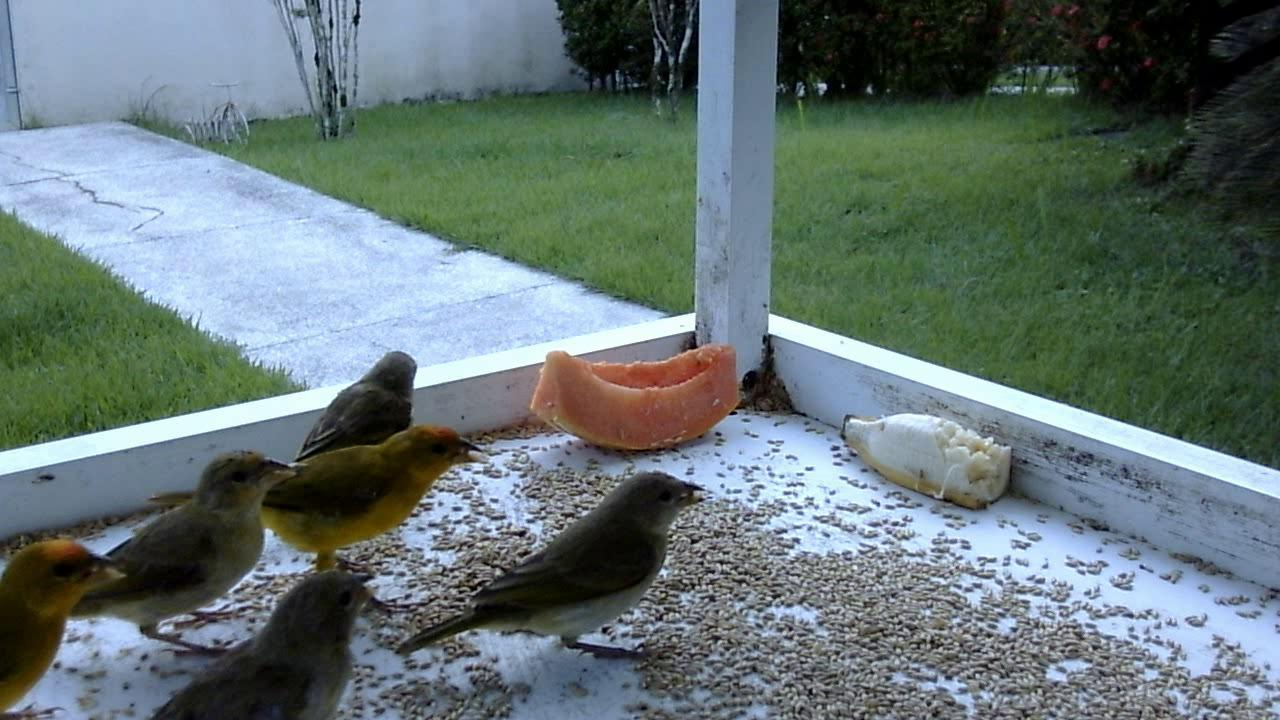canario_do_amazonas: (387, 466, 715, 680), (59, 444, 301, 674), (122, 562, 403, 720), (252, 425, 502, 600), (1, 527, 119, 718), (290, 338, 435, 467)
